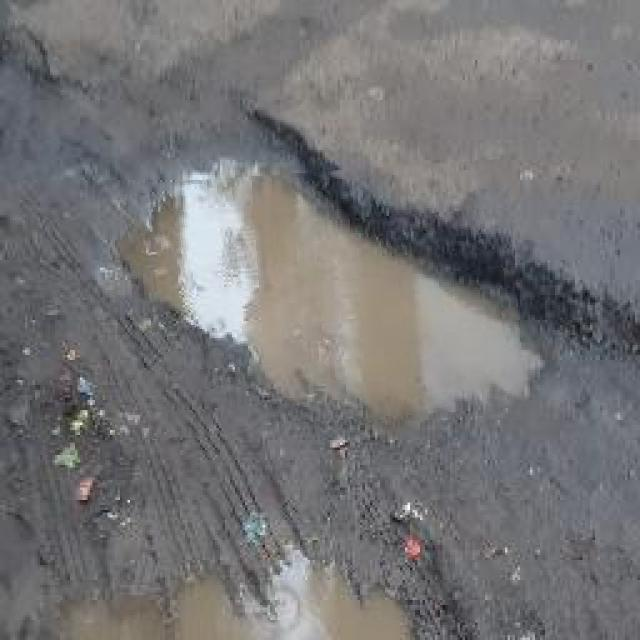puddle: (130, 166, 522, 433), (66, 566, 411, 640)
